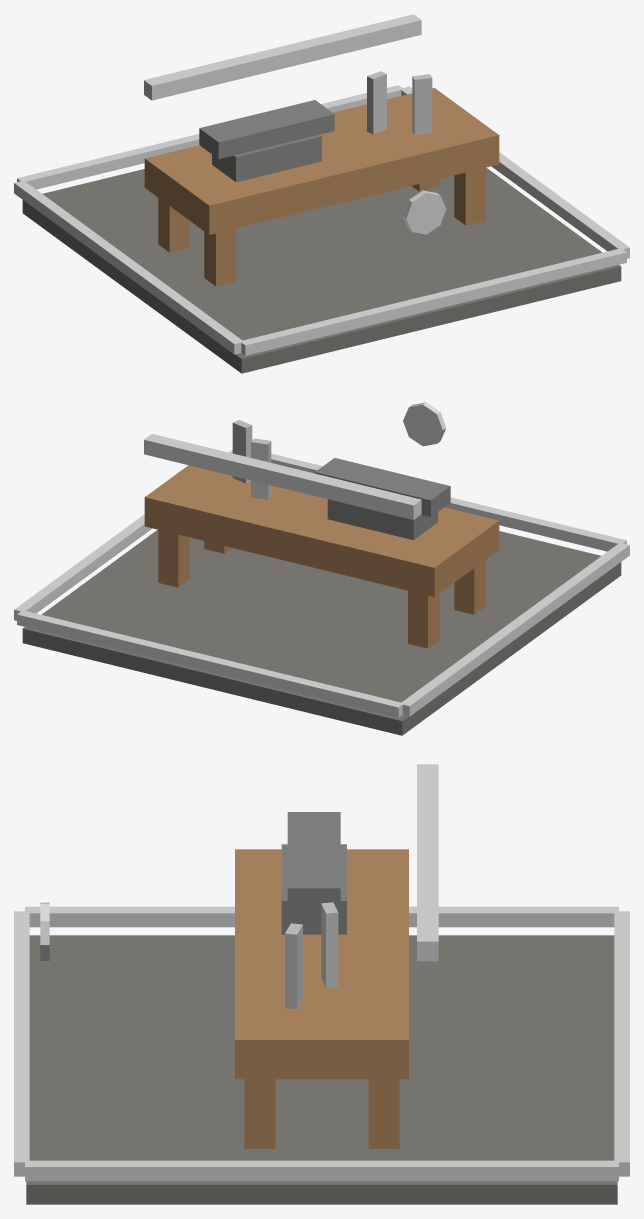
The model's file is t1_toolmaker.glb.
3 renders of one model, top to bottom at view 1: azimuth 30°, elevation 25°; view 2: azimuth 150°, elevation 25°; view 3: azimuth 270°, elevation 25°, orthographic. The views are drawn at different scales.
Parts seen in each view (by area): view 1: FootprintBase, Workbench, TierFrontTrim, ToolRack, TierLeftTrim, AnvilTop, TierBackTrim, AnvilBody, TierRightTrim, BenchLeg, BenchLeg.002, TierEmblem (+3 smaller); view 2: FootprintBase, Workbench, TierBackTrim, ToolRack, TierLeftTrim, TierFrontTrim, AnvilTop, TierRightTrim, AnvilBody, BenchLeg.001, BenchLeg.003, TierEmblem (+3 smaller); view 3: FootprintBase, Workbench, TierRightTrim, TierLeftTrim, AnvilTop, ToolRack, TierBackTrim, TierFrontTrim, BenchLeg.002, BenchLeg.003, AnvilBody, ToolBlankA (+1 smaller).
Boxes of the visible parts, box(x1,y1,x2,y2) form: FootprintBase: box(22, 167, 621, 373); Workbench: box(144, 88, 499, 234); TierFrontTrim: box(240, 249, 626, 355); ToolRack: box(144, 14, 421, 100); TierLeftTrim: box(14, 180, 242, 354); AnvilTop: box(199, 100, 334, 158); TierBackTrim: box(17, 85, 403, 189); AnvilBody: box(212, 134, 321, 182); TierRightTrim: box(401, 86, 629, 258); BenchLeg: box(204, 228, 235, 286); BenchLeg.002: box(454, 167, 485, 225); TierEmblem: box(403, 190, 446, 234); FootprintBase: box(22, 529, 621, 735); Workbench: box(144, 465, 499, 596); TierBackTrim: box(17, 611, 402, 717); ToolRack: box(144, 434, 421, 519); TierLeftTrim: box(400, 542, 629, 716); TierFrontTrim: box(271, 453, 626, 551); AnvilTop: box(315, 458, 450, 516); TierRightTrim: box(14, 450, 232, 620); AnvilBody: box(327, 499, 437, 540); BenchLeg.001: box(408, 590, 439, 648); BenchLeg.003: box(158, 530, 189, 587); TierEmblem: box(403, 402, 446, 446); FootprintBase: box(26, 935, 617, 1204); Workbench: box(235, 849, 408, 1079); TierRightTrim: box(25, 1160, 618, 1181); TierLeftTrim: box(25, 906, 618, 927); AnvilTop: box(287, 812, 340, 910); ToolRack: box(417, 764, 438, 961); TierBackTrim: box(614, 911, 629, 1176); TierFrontTrim: box(14, 911, 29, 1176); BenchLeg.002: box(244, 1079, 275, 1148); BenchLeg.003: box(368, 1079, 399, 1148); AnvilBody: box(281, 844, 346, 934); ToolBlankA: box(321, 902, 338, 988).
Size of the model in its own units: 3.96 by 1.61 by 3.96.
